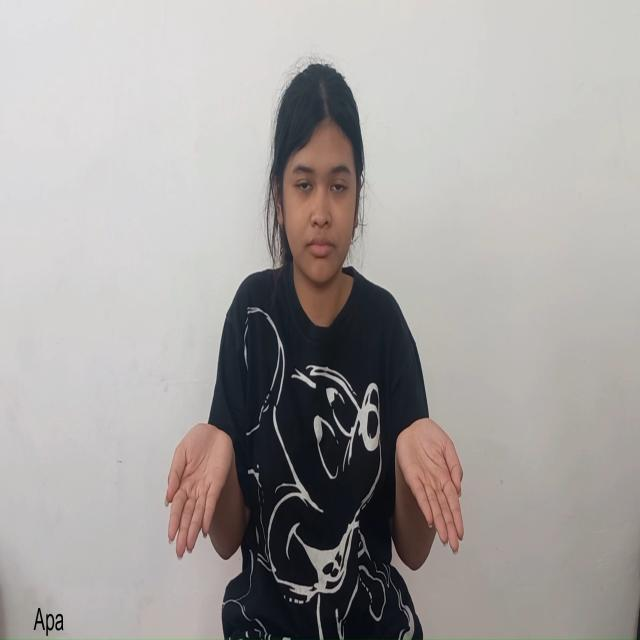Apa -BISINDO-: (156, 402, 474, 572)
